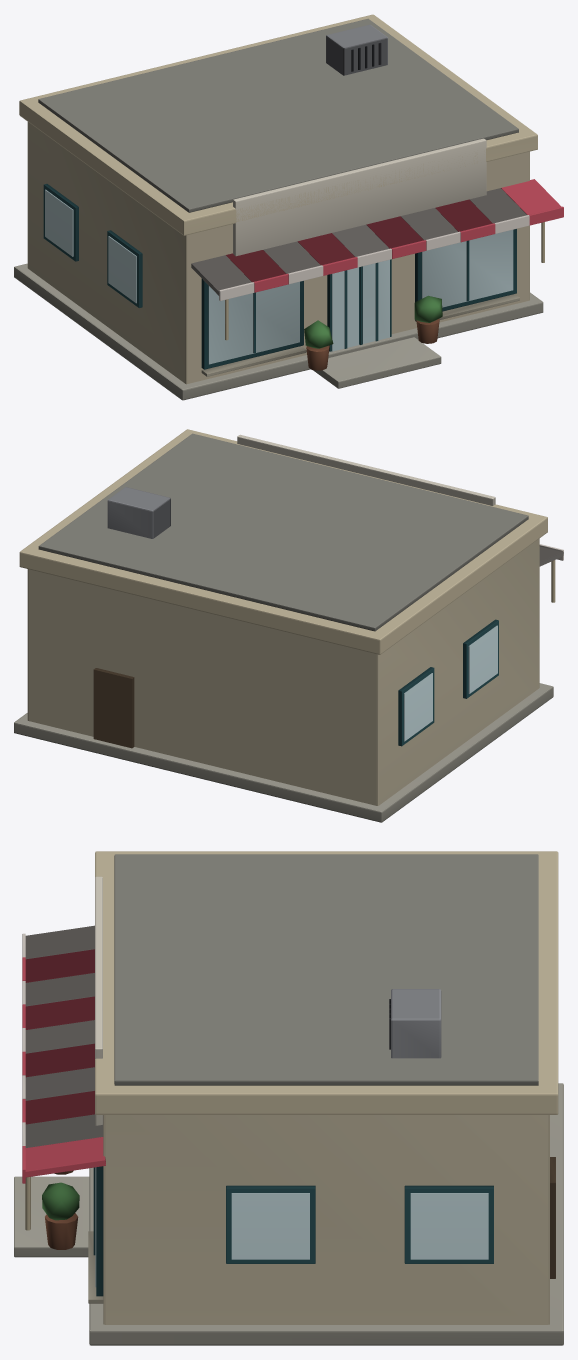
The model's file is shop.glb.
3 views of the same model, one above another, from view 1: azimuth 30°, elevation 25°; view 2: azimuth 150°, elevation 25°; view 3: azimuth 270°, elevation 25° (orthographic). The views are drawn at different scales.
Visible parts, largest first — view 1: shop; view 2: shop; view 3: shop.
Part boxes in pixels (x1=…): shop: x1=14, y1=14, x2=563, y2=400; shop: x1=14, y1=429, x2=563, y2=822; shop: x1=14, y1=851, x2=563, y2=1345.
Bounding box in the file's own units: 10.5 × 5.8 × 9.85.
